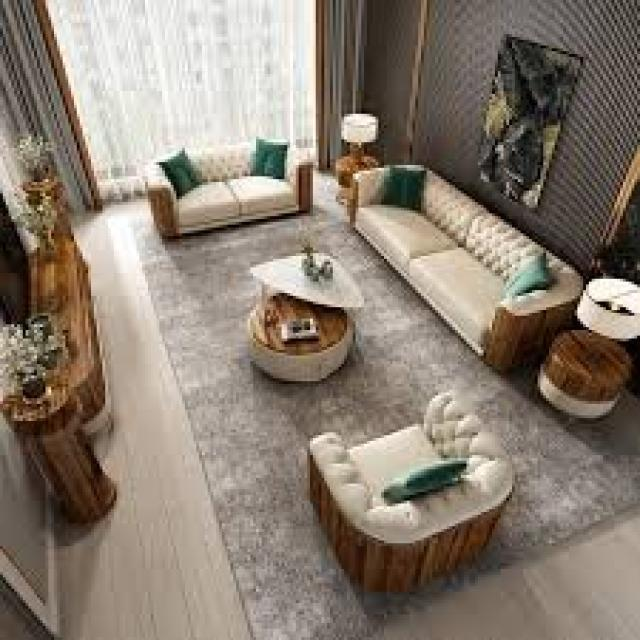sofa: (347, 162, 583, 373), (304, 386, 514, 594), (142, 134, 313, 239)
